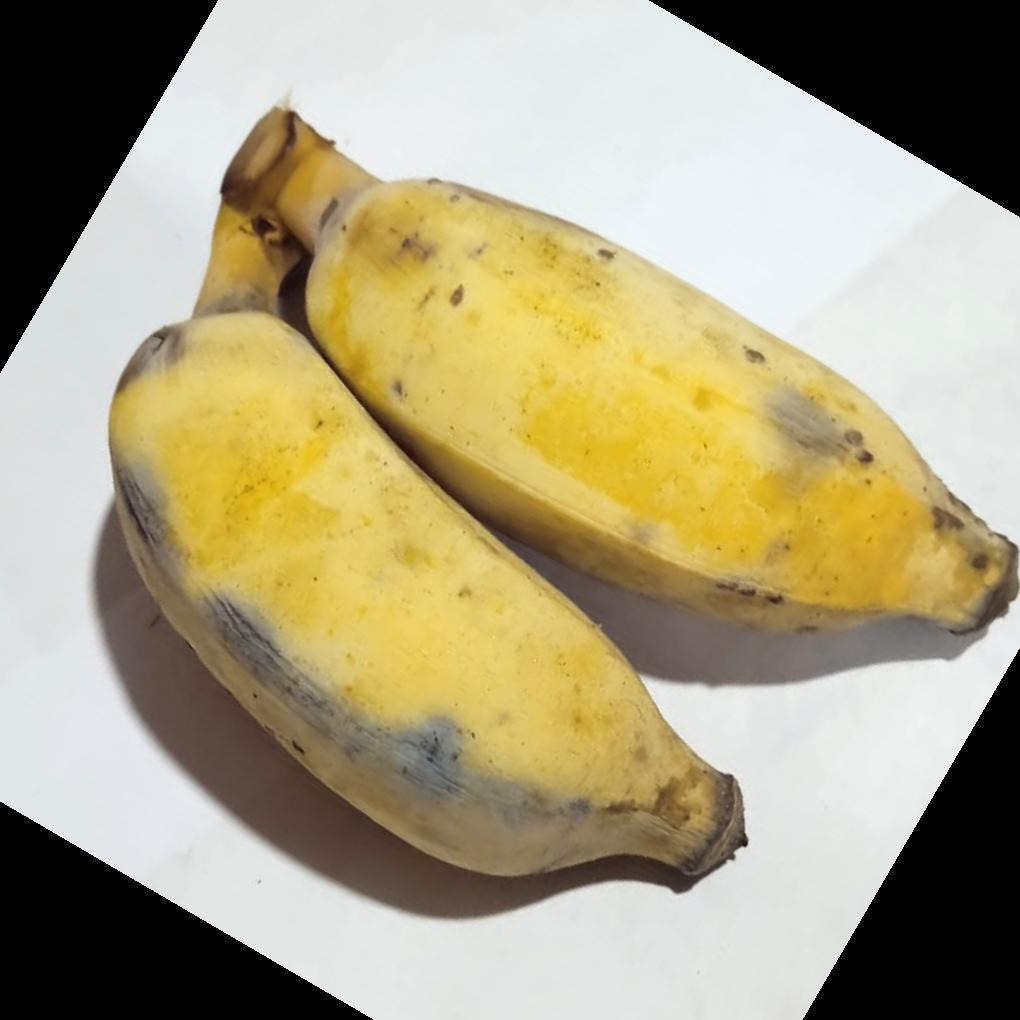Banana Ripe: (123, 120, 1020, 880), (220, 82, 1020, 715)
